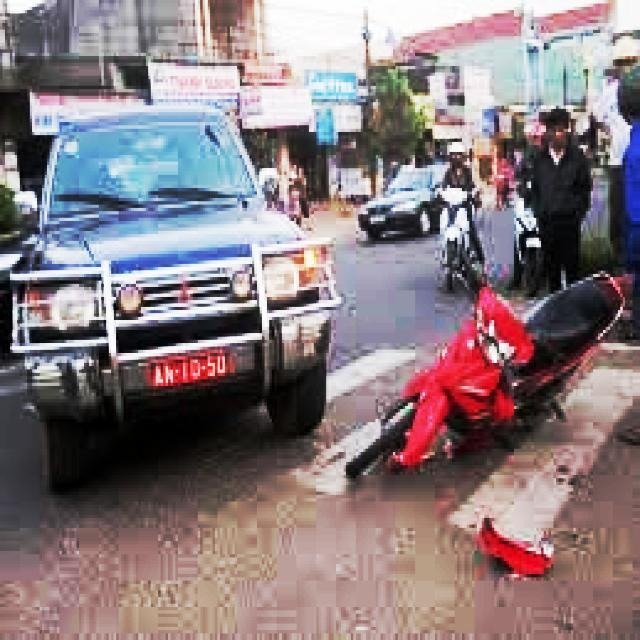license_plate: (152, 349, 235, 393)
